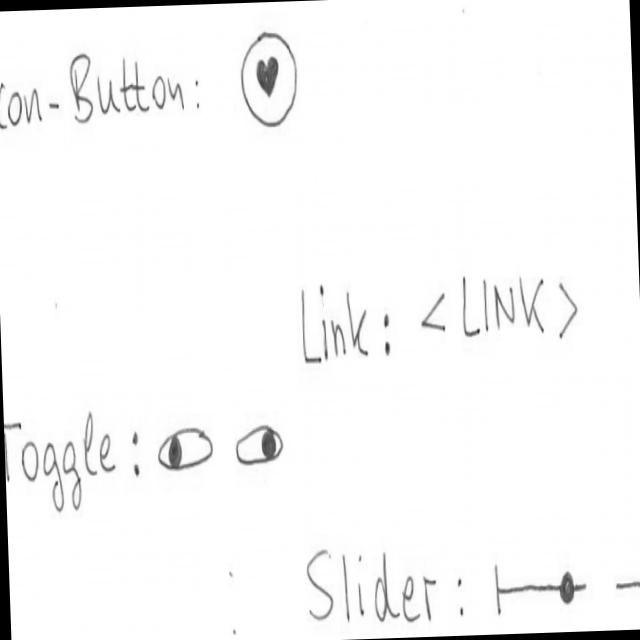icon-button: (237, 24, 300, 132)
link: (416, 262, 584, 354)
slider: (489, 548, 640, 627)
toggle: (154, 418, 216, 476), (231, 417, 285, 467)
